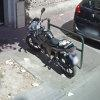Motorcycle: (20, 15, 84, 78)
